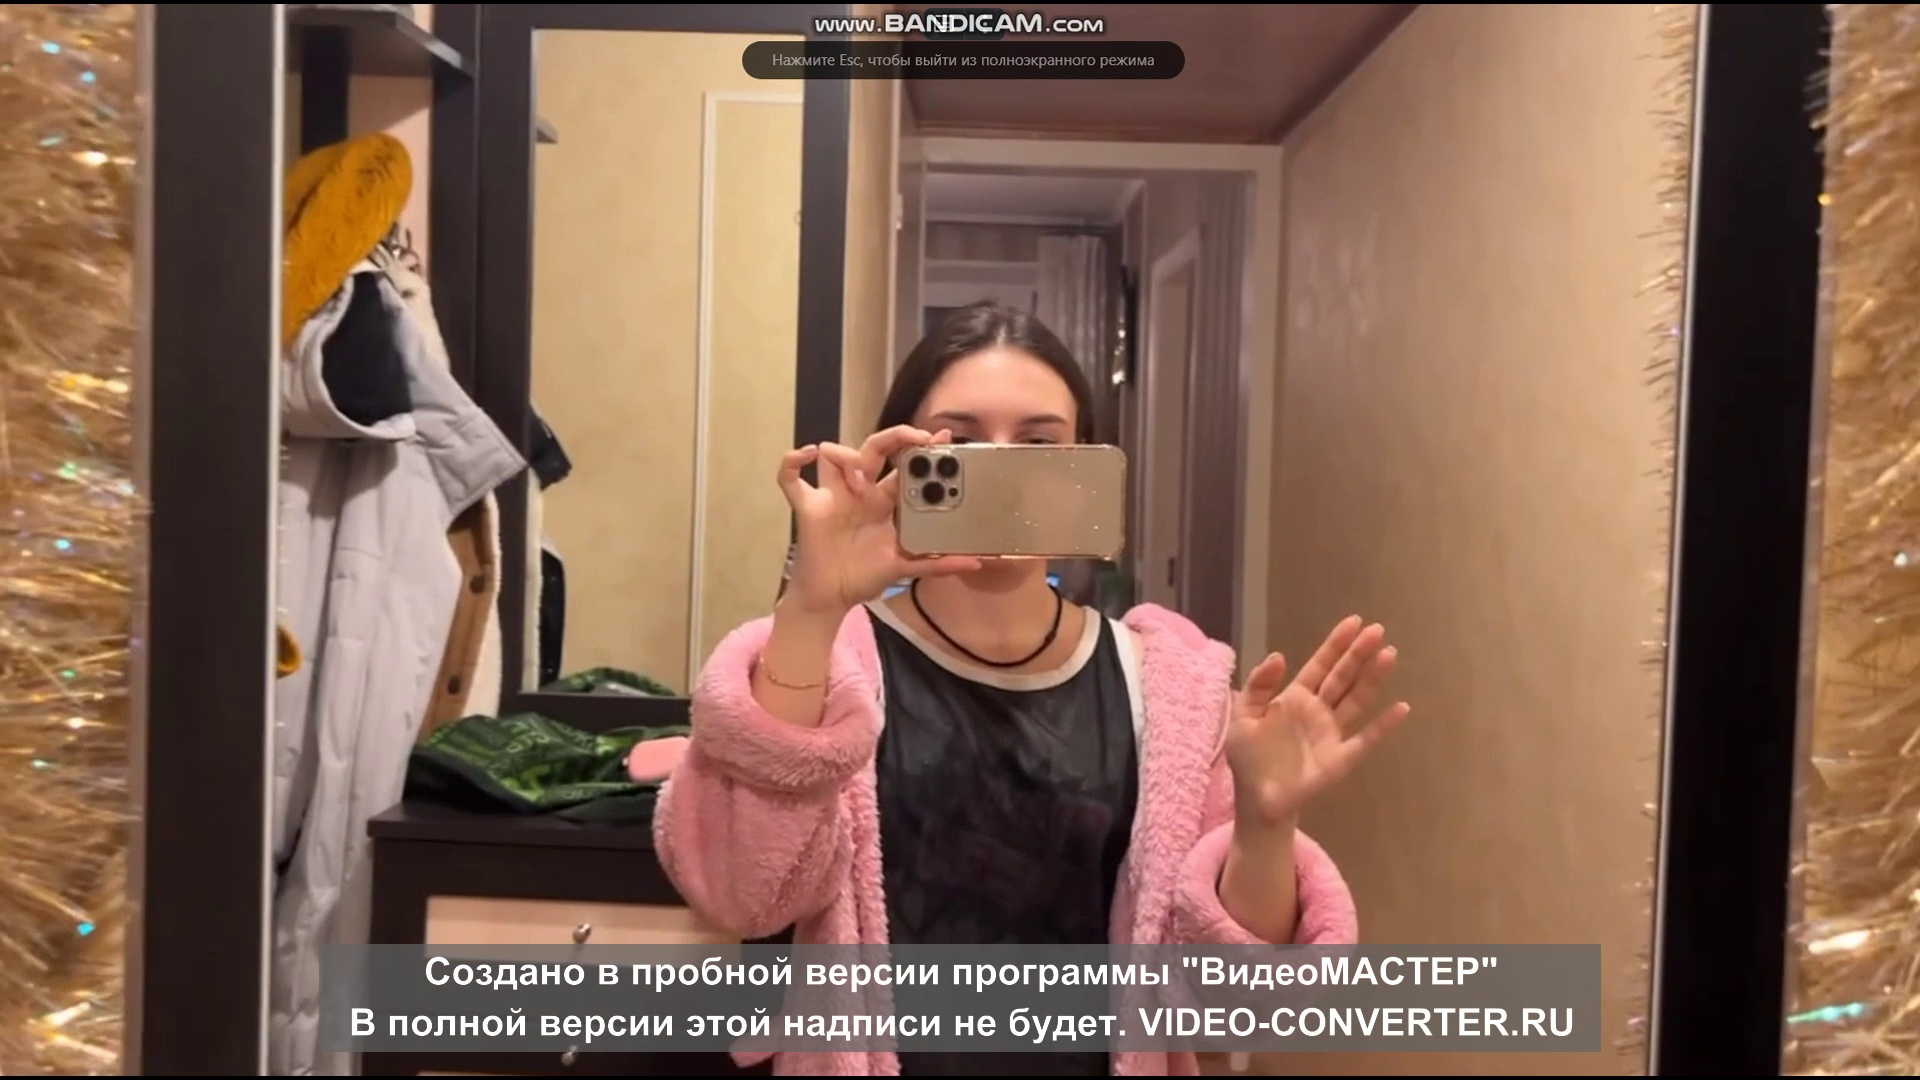Ладонь: (1218, 615, 1411, 815)
